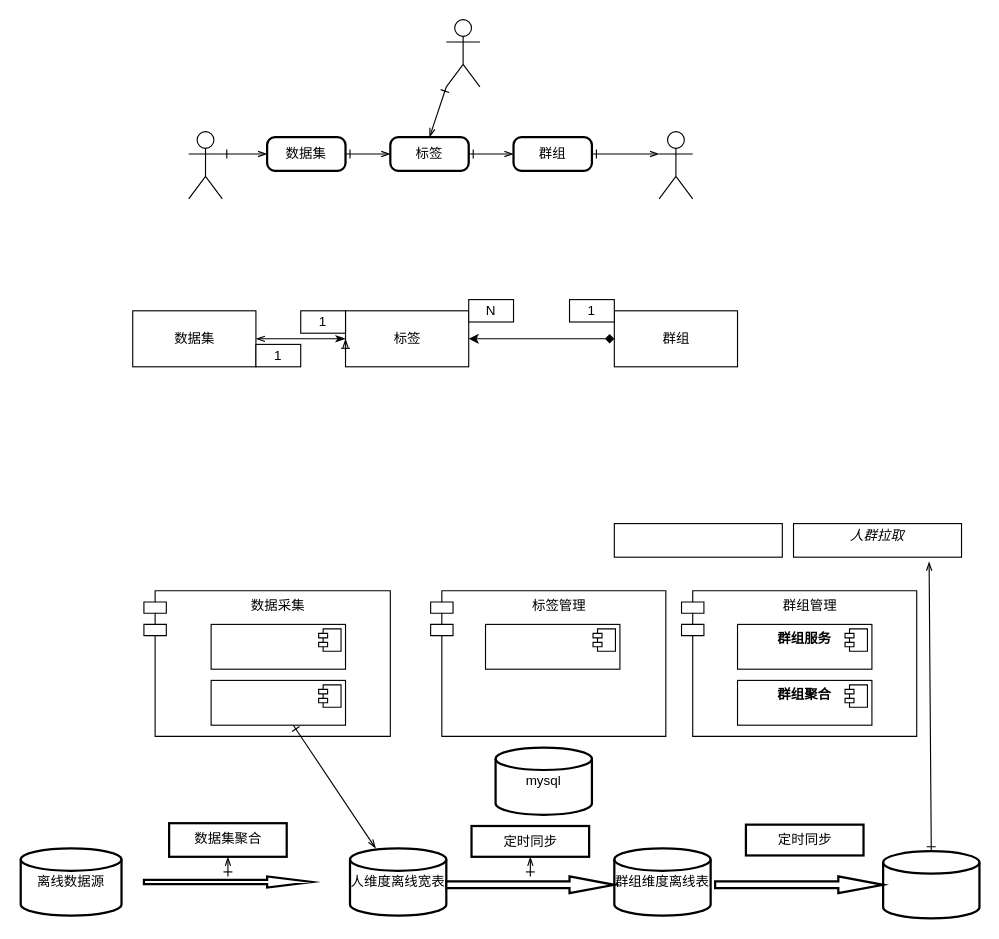
Some shapes in this 999 by 939 pixel diagram are drawn without their labels. The shapes that lost their labels are listed below. From the top down, each one's centre as x and y in pixels, then its label:
At point 462,52: "人群管理".
At point 205,164: "人群生产".
At point 675,164: "人群消费".
At point 697,539: "人群判定".
At point 278,646: "数据集管理".
At point 552,646: "指标维护".
At point 278,702: "数据清洗同步".
At point 930,884: "rdb".
